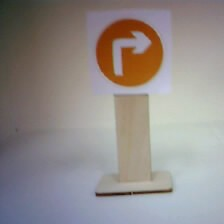right: (84, 12, 172, 91)
